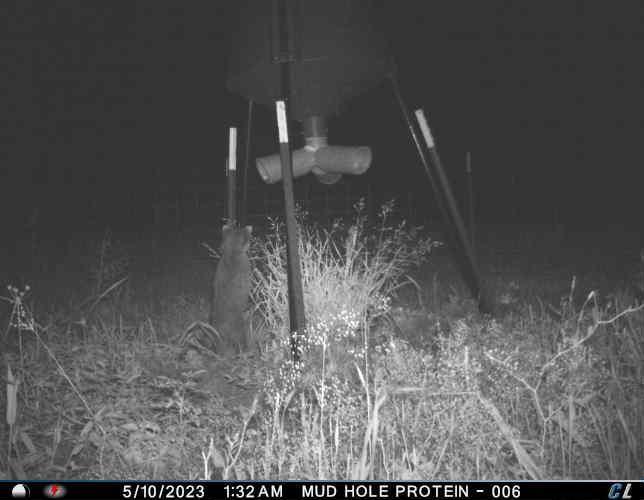Raccoon: (198, 219, 261, 359)
